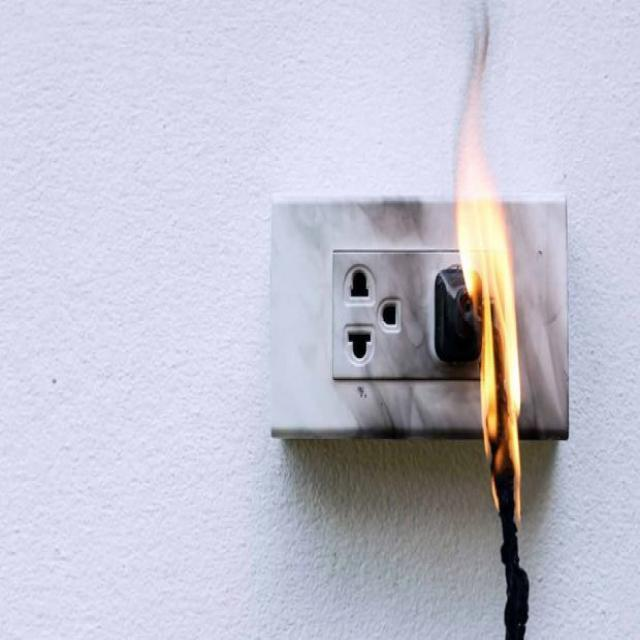Fire: (441, 31, 562, 470)
